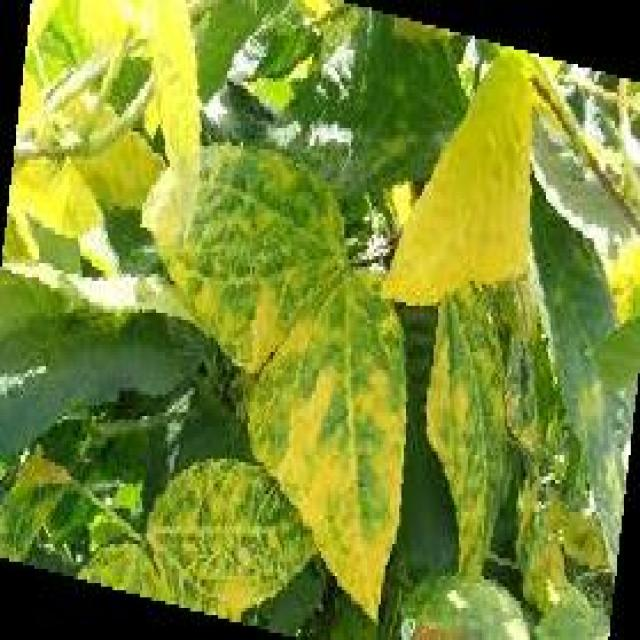Rust: (262, 289, 403, 591), (388, 108, 529, 290)
